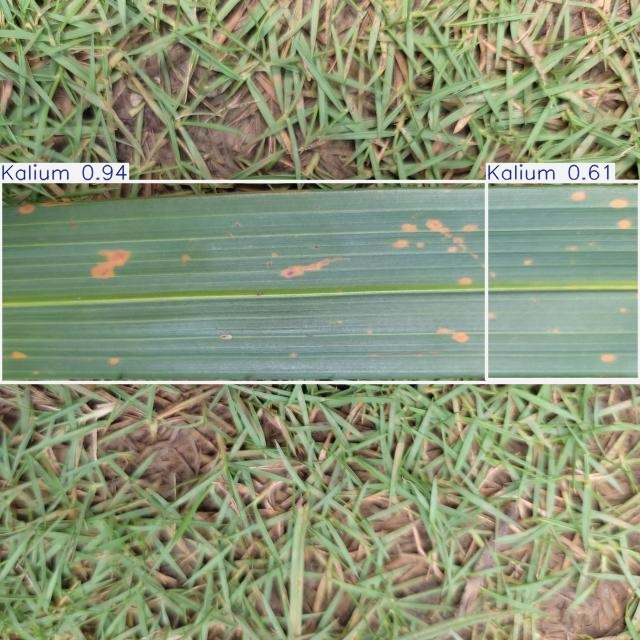Kalium: (0, 182, 640, 382), (487, 182, 640, 380)
